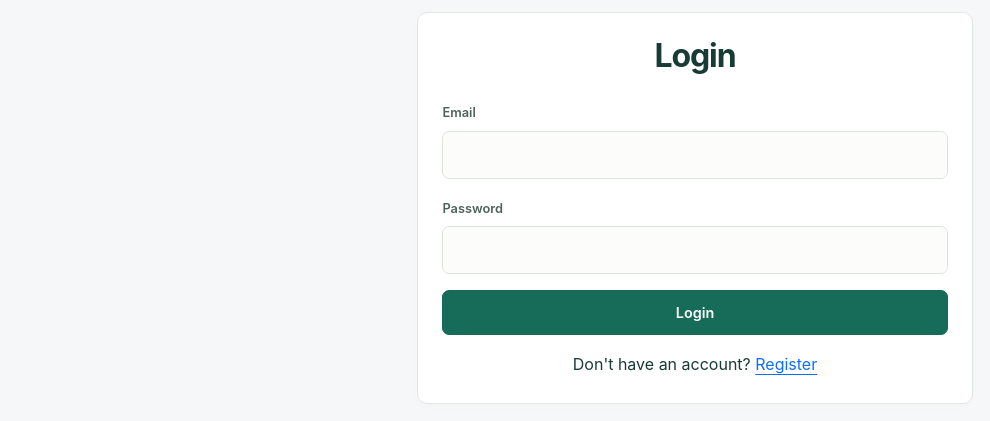
Scenario: Login page › logs in with the typed email and password, then goes to the home page
This screenshot has width=990, height=421.
Type "ali@test.com" into the field labelled "Email".
click(695, 155); type("ali@test.com")  # box [442, 131, 948, 179]
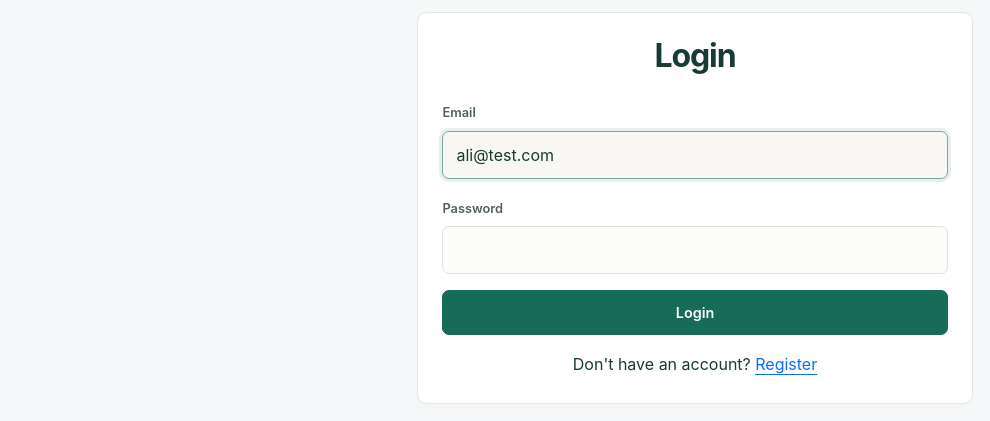
Type "secret123" into the password field labelled "Password".
click(695, 250); type("secret123")  # box [442, 226, 948, 274]
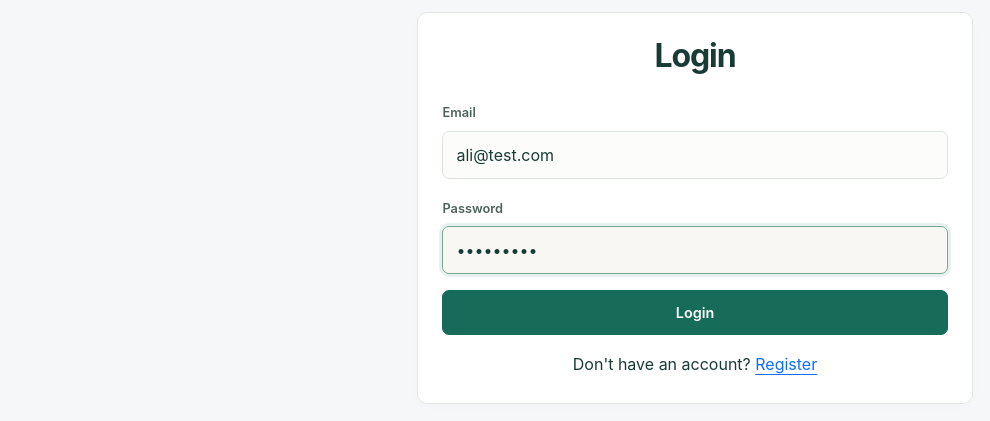
Click the button "Login".
click(695, 313)  # box [442, 290, 948, 335]
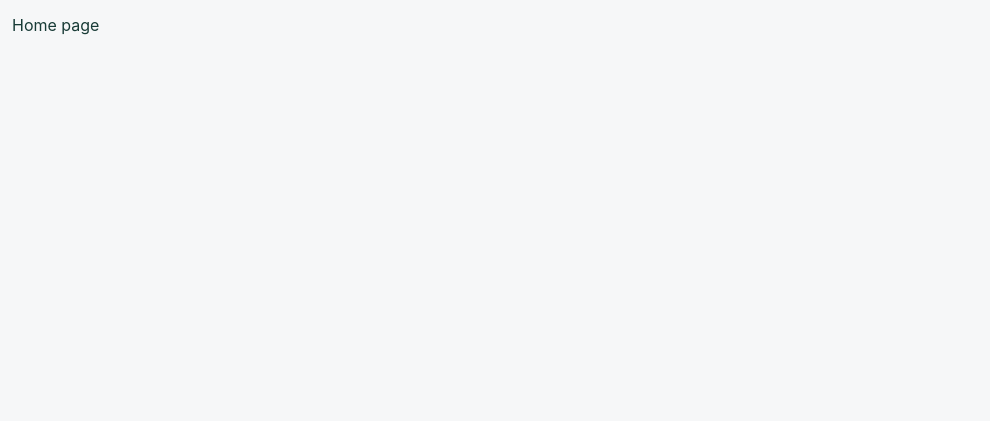
Now the text "Home page" is shown, box [12, 15, 99, 35]
